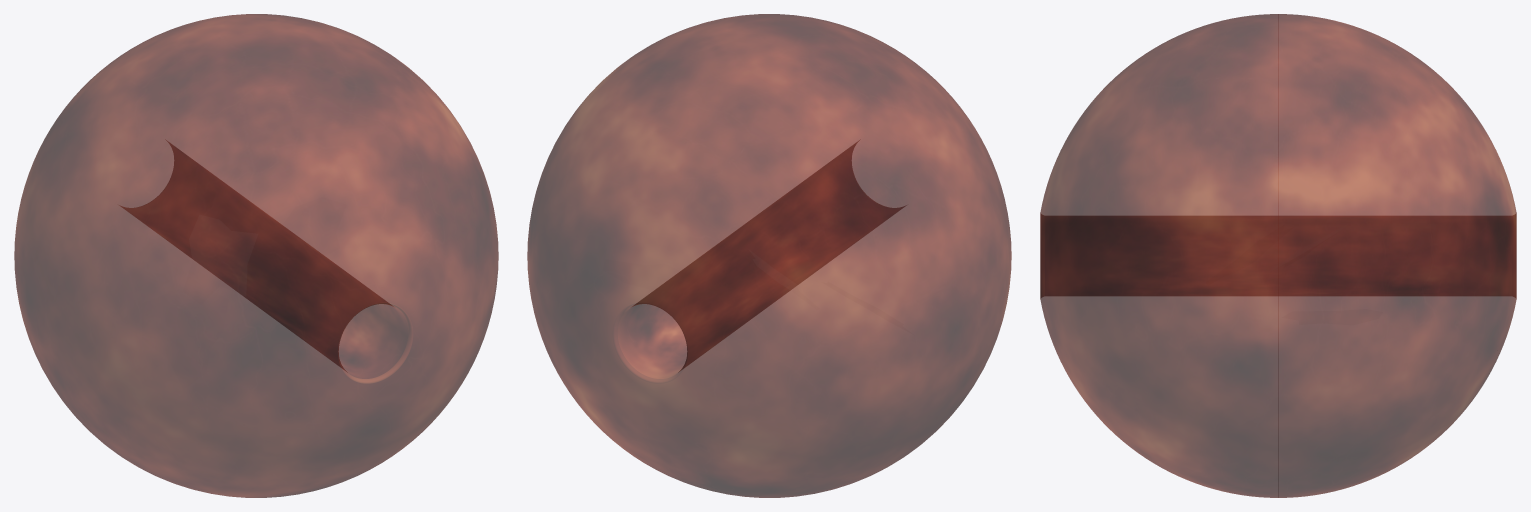
File: hessonite-6mm.glb
3 views of the same model, side by side, from view 1: azimuth 30°, elevation 25°; view 2: azimuth 150°, elevation 25°; view 3: azimuth 270°, elevation 25° (orthographic).
Parts seen in each view (by area): view 1: hessonite.001; view 2: hessonite.001; view 3: hessonite.001.
Boxes of the visible parts, left/top/right/bottom form: hessonite.001: left=14, top=14, right=498, bottom=497; hessonite.001: left=527, top=14, right=1011, bottom=497; hessonite.001: left=1040, top=14, right=1516, bottom=497.
Size of the model in its own units: 0.006 by 0.006 by 0.0059.
Materials: 2 (1 with a texture image).
